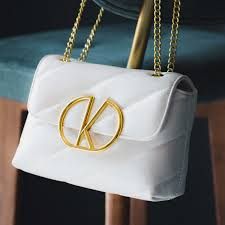bag: (19, 28, 194, 207)
